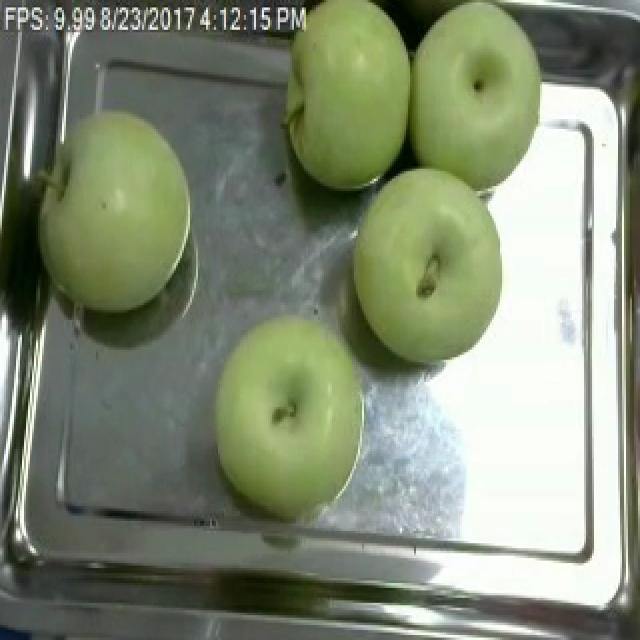50-_ripeness: (24, 107, 196, 330), (210, 301, 374, 523), (354, 167, 497, 367), (271, 0, 417, 187), (396, 0, 540, 181)
